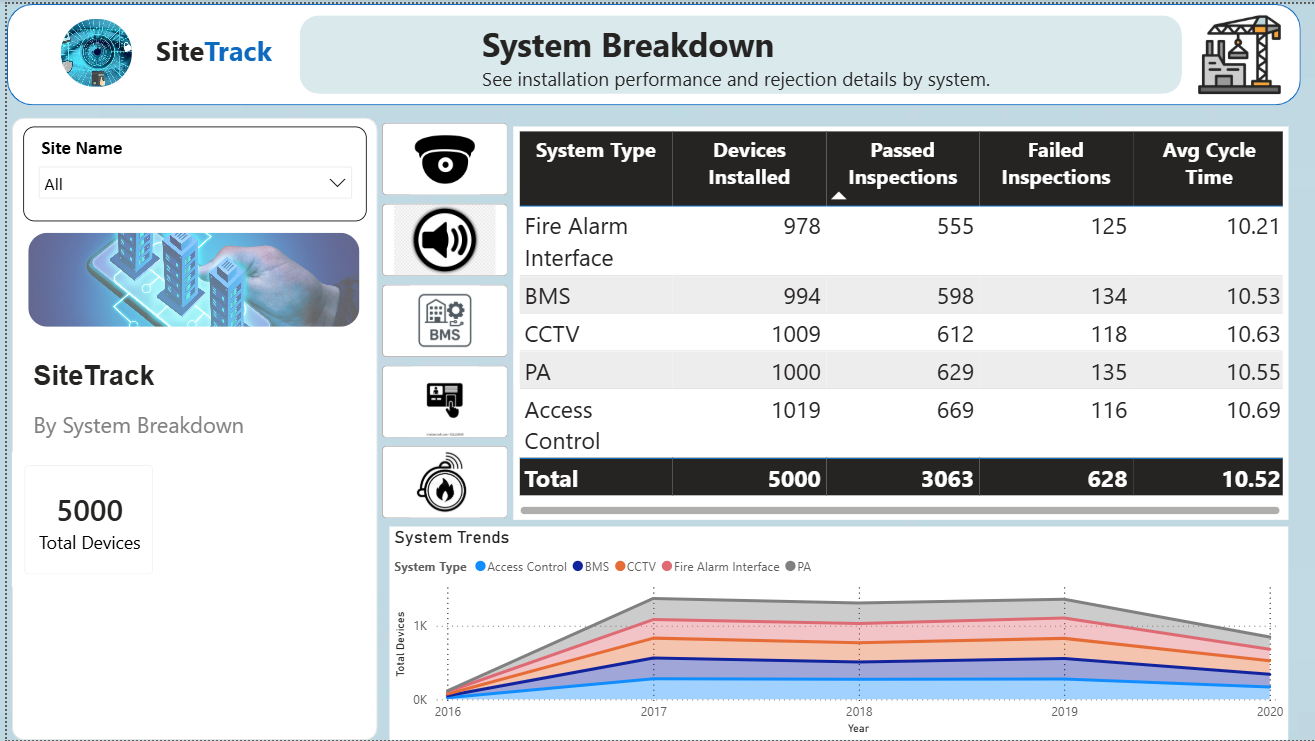

Layout of this report page (visuals, bound fields, positions):
{"tool":"powerbi","page":{"name":"Systems","canvas":[1280,720],"ordinal":2},"visuals":[{"type":"shape","box":[0,0,1265.6,99],"z":0},{"type":"shape","box":[286.1,11,863.3,77],"z":0,"group":"g1"},{"type":"textbox","box":[459.7,12.2,489.1,75.8],"z":1000,"group":"g1"},{"type":"textbox","box":[141,22.1,175.3,53.9],"z":1000},{"type":"textbox","box":[459.6,13,544.2,97.8],"z":2000,"group":"g1"},{"type":"image","box":[52.7,14.7,69.9,66.2],"z":2000},{"type":"shape","box":[5,111.2,357.5,608.8],"z":3000},{"type":"image","box":[20.9,224,324.2,91.8],"z":4000},{"type":"slicer","fields":{"Values":["Dim_Site.Site Name"]},"box":[15.9,119.8,336.3,92.9],"z":5000},{"type":"textbox","box":[20.8,343.6,278.8,123.5],"z":6000},{"type":"cardVisual","fields":{"Data":["Dim_Client.Total Devices"]},"box":[0,434.1,160.2,141.8],"z":7000},{"type":"advancedSlicerVisual","fields":{"Values":["images.SystemID"]},"box":[362,111.3,133.3,399.9],"z":8000},{"type":"image","box":[1139.7,7.3,132.1,80.7],"z":9000},{"type":"tableEx","fields":{"Values":["Dim_System.System Type","Dim_Client.Devices Installed","Fact_Installation.Passed Inspections","Fact_Installation.Failed Inspections","Fact_Installation.Avg Cycle Time"]},"box":[495.2,119.8,758.2,385.2],"z":10000},{"type":"stackedAreaChart","title":"System Trends","fields":{"Category":["Dim_Date.Year-Month.Variation.Date Hierarchy.Year","Dim_Date.Year-Month.Variation.Date Hierarchy.Quarter","Dim_Date.Year-Month.Variation.Date Hierarchy.Month","Dim_Date.Year-Month.Variation.Date Hierarchy.Day"],"Y":["Dim_Client.Total Devices"],"Series":["Dim_System.System Type"]},"box":[374.2,511.1,879.2,209.1],"z":11000},{"type":"group","id":"g1","title":"Group 8","box":[286.1,11,863.3,100.3],"z":12000}]}

Visuals, with their boxes in screenshot pixels (x1, y1, x2, y2), scaled from the page's 1280x720 canvas onto the 1315x741 screenshot:
shape: l=0, t=0, r=1300, b=102
shape: l=294, t=11, r=1181, b=91
textbox: l=472, t=13, r=975, b=91
textbox: l=145, t=23, r=325, b=78
textbox: l=472, t=13, r=1031, b=114
image: l=54, t=15, r=126, b=83
shape: l=5, t=114, r=372, b=740
image: l=21, t=231, r=355, b=325
slicer - Dim_Site.Site Name: l=16, t=123, r=362, b=219
textbox: l=21, t=354, r=308, b=481
cardVisual - Dim_Client.Total Devices: l=0, t=447, r=165, b=593
advancedSlicerVisual - images.SystemID: l=372, t=115, r=509, b=526
image: l=1171, t=8, r=1307, b=91
tableEx - Dim_System.System Type x Dim_Client.Devices Installed: l=509, t=123, r=1288, b=520
"System Trends" stackedAreaChart: l=384, t=526, r=1288, b=740
"Group 8" group: l=294, t=11, r=1181, b=115
